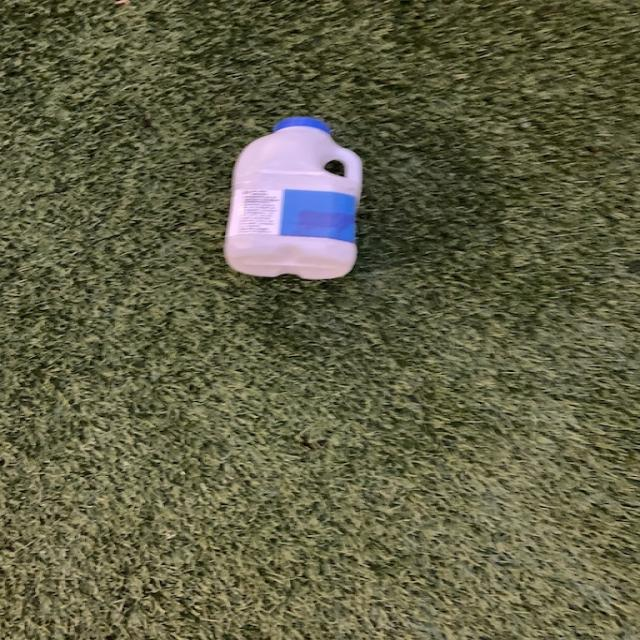litter: (214, 118, 366, 290)
